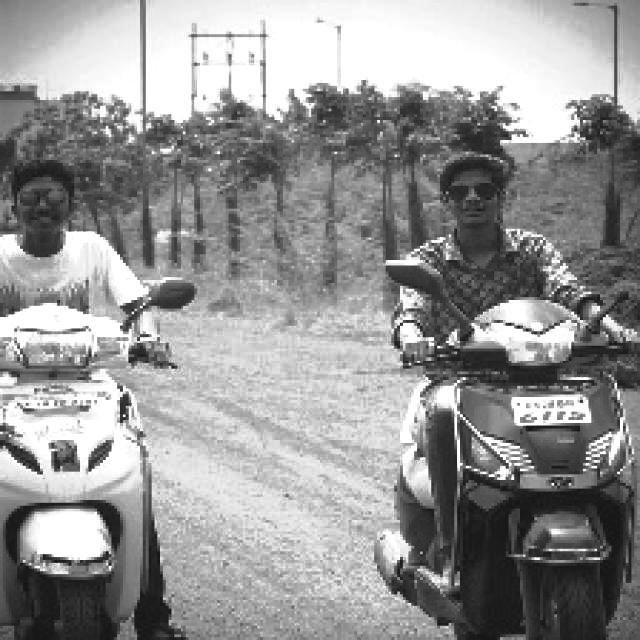Bike: (392, 291, 632, 637), (2, 300, 166, 640)
